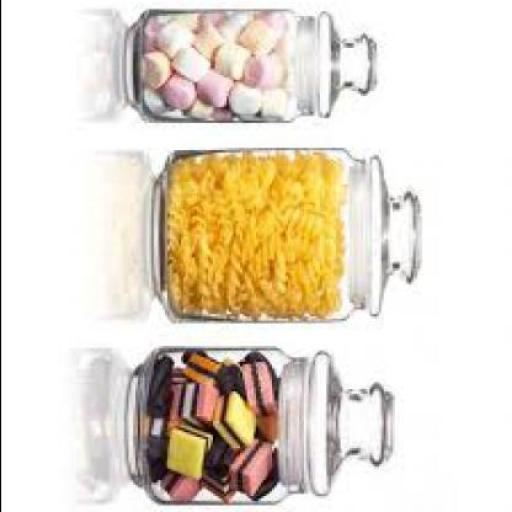biodegradable: (166, 157, 348, 321), (141, 14, 296, 120), (170, 421, 212, 482), (216, 394, 259, 450), (202, 446, 240, 503), (236, 442, 276, 496), (172, 386, 214, 434), (238, 367, 276, 416), (164, 469, 206, 501), (152, 357, 174, 418), (148, 438, 173, 486), (184, 358, 223, 384), (221, 364, 243, 394)
glass: (150, 150, 421, 328), (128, 350, 394, 510), (127, 12, 380, 127)
